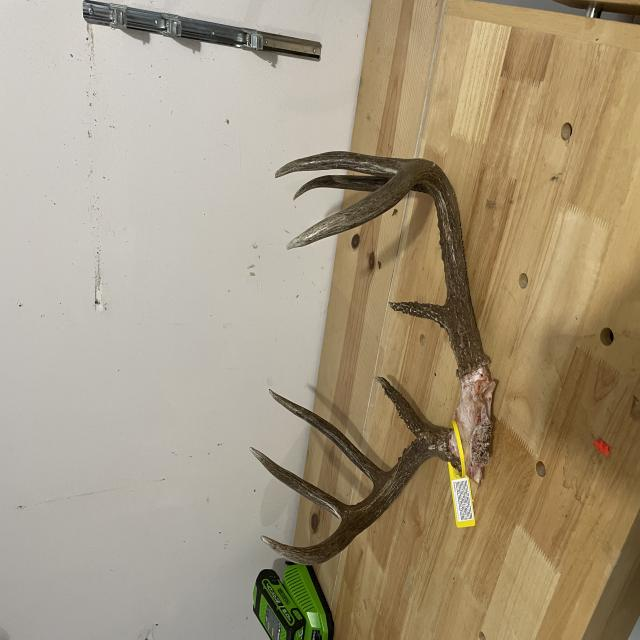L-F: (196, 380, 362, 640)
L-G1: (233, 517, 255, 597)
R-F: (55, 346, 160, 615)
R-G1: (150, 500, 198, 573)
R-G2: (115, 357, 189, 516)
R-G3: (90, 331, 145, 467)
